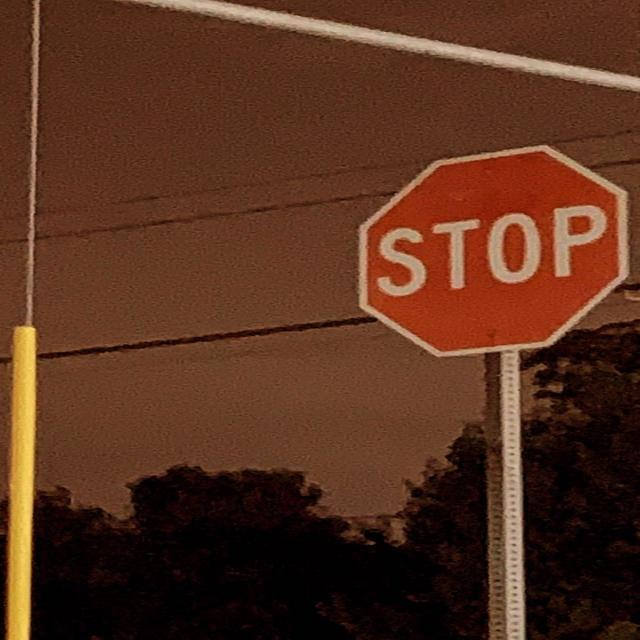stop: (356, 143, 630, 358)
